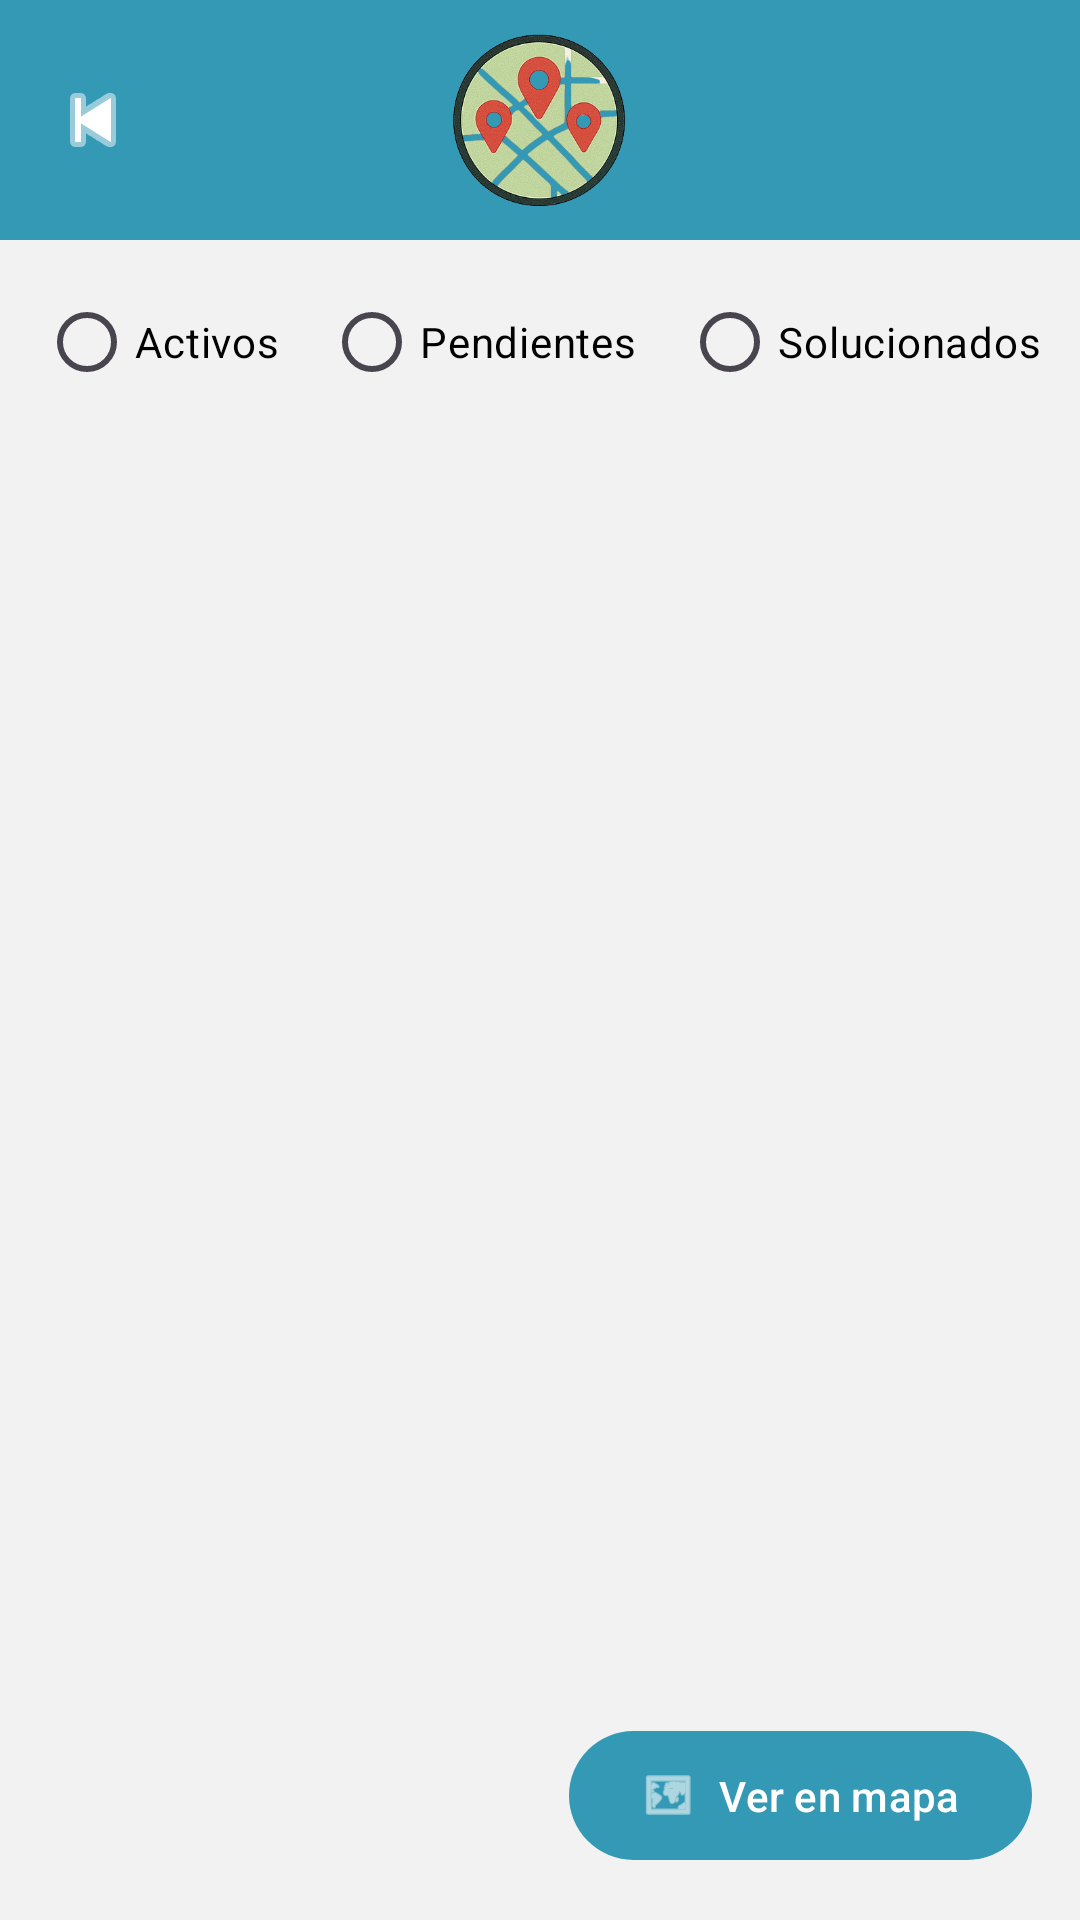

Icon bounding boxes for this 1080 x 1920 phone screenshot, format box=[x1, y1, x2, y2]:
Volver: box=[70, 93, 116, 147]
